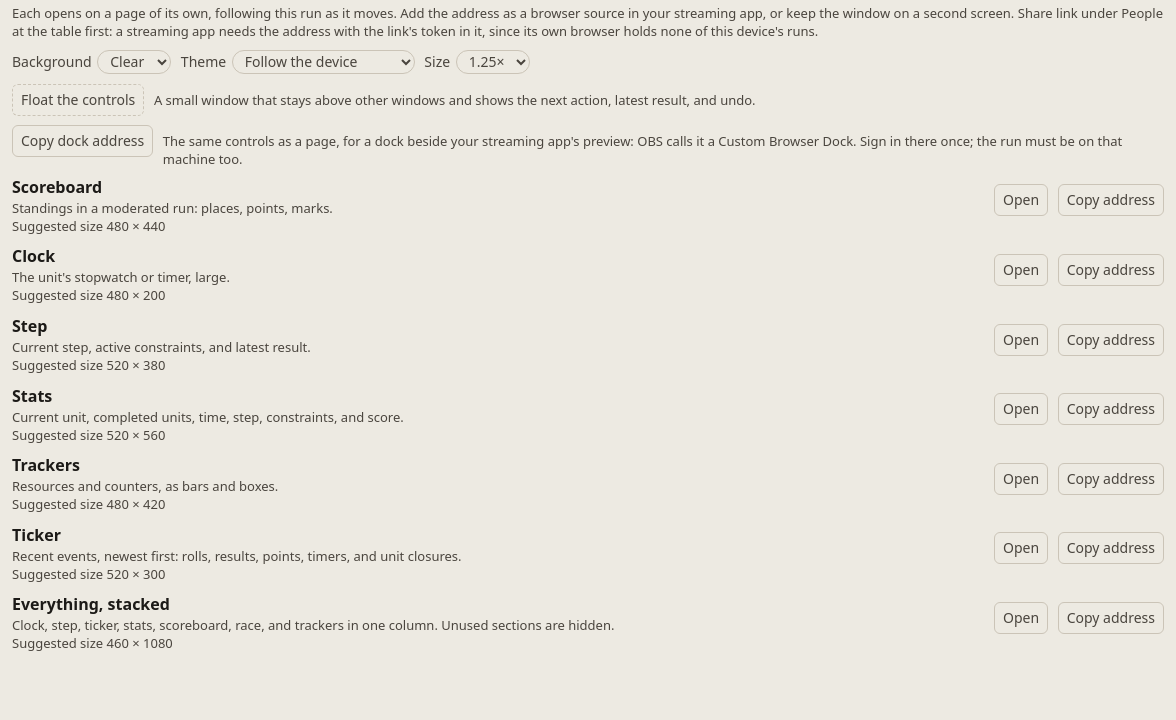
Test: a failed stream address copy › gives persistent retry guidance while retaining the widget open action
Click the 1st button "Copy address".
click(1111, 200)  # box [1058,184,1164,216]
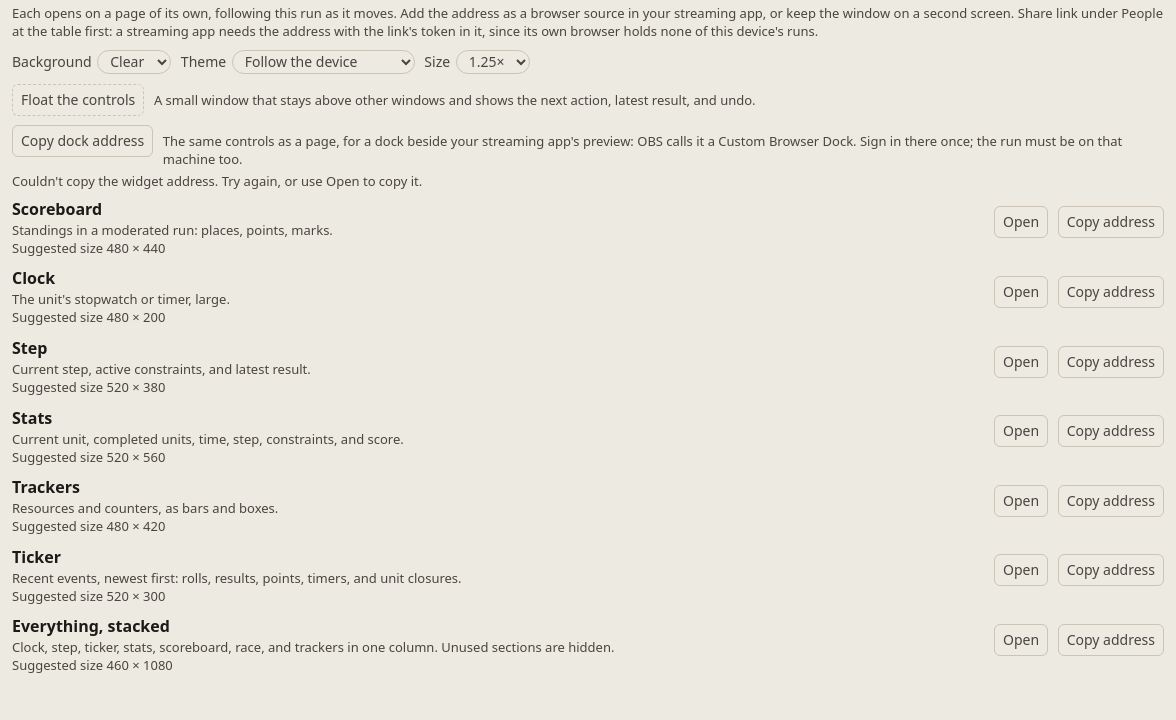
Expected: the message reads "Couldn't copy the widget address. Try again, or use Open to copy it.", [12,172,422,190]
